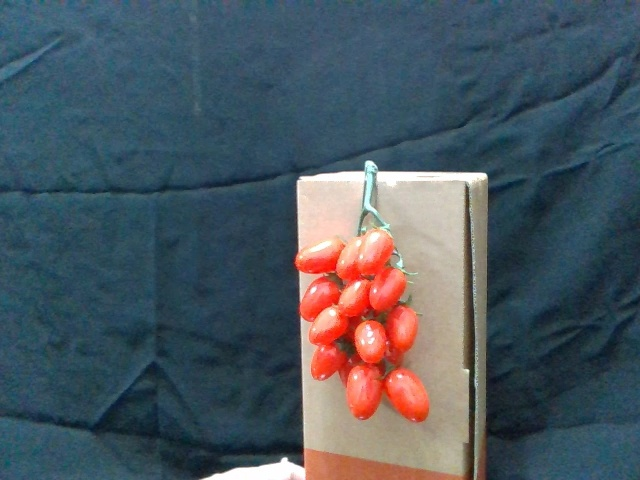tomato: (380, 365, 432, 426), (343, 363, 382, 421), (294, 237, 344, 275), (383, 303, 418, 357), (352, 314, 388, 366), (301, 275, 342, 320), (371, 266, 410, 313), (310, 305, 351, 348), (360, 229, 395, 279), (339, 278, 373, 322), (338, 236, 369, 279), (309, 344, 344, 382)
